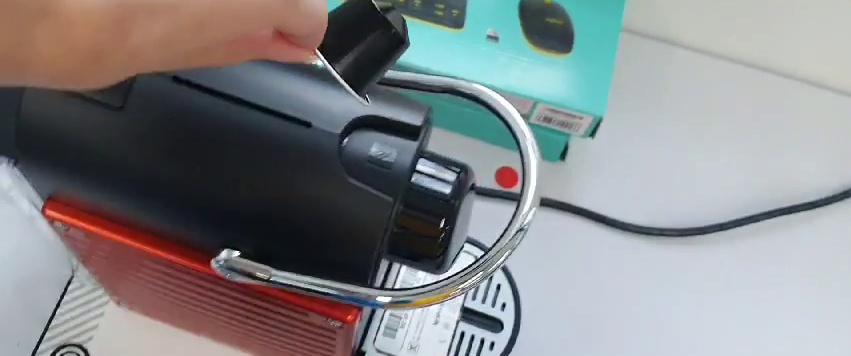capsule_10: (307, 1, 417, 104)
